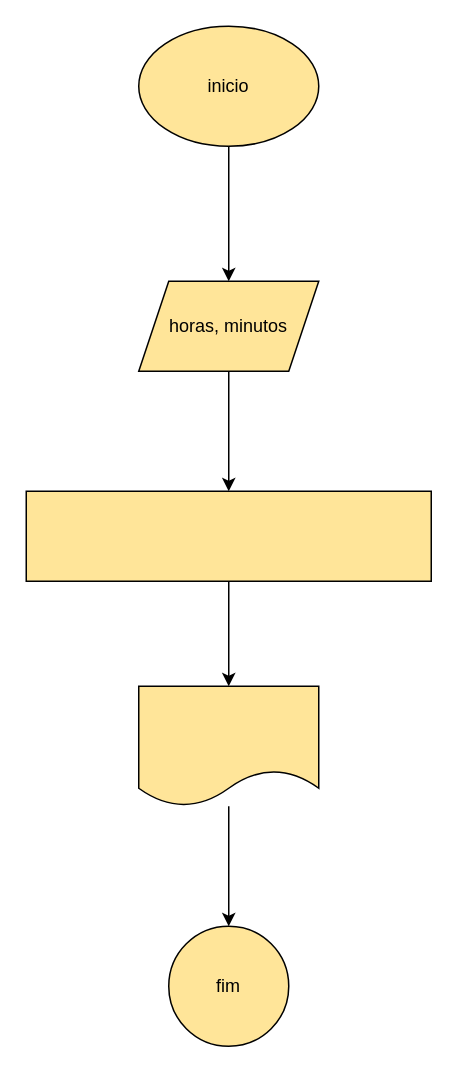
The diagram is 458 pixels wide and 1073 high, and some of its shapes have lost their labels. The shapes that lost their labels are listed below. From the top down, each one's centre as x and y in pixels, then its label:
At point (228, 535): "segundosM =minutos/60 tempoemsegundos=(segundosM + horas)".
At point (228, 745): "tempoemsegundos".
